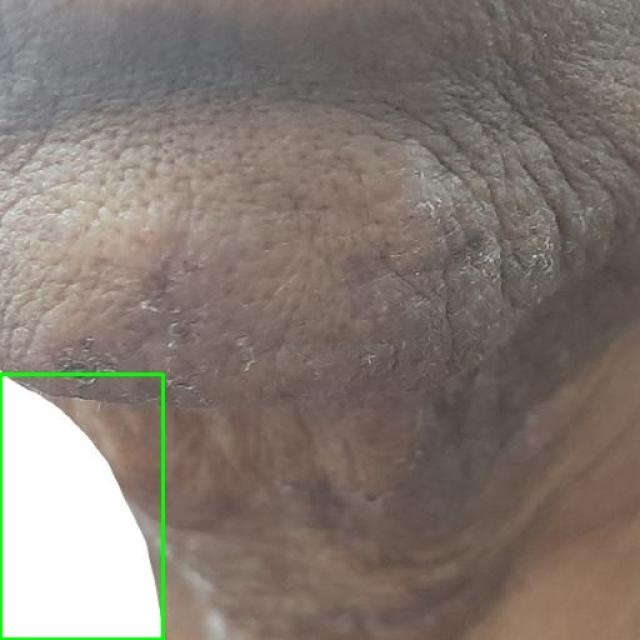Eczema: (0, 374, 162, 639)
